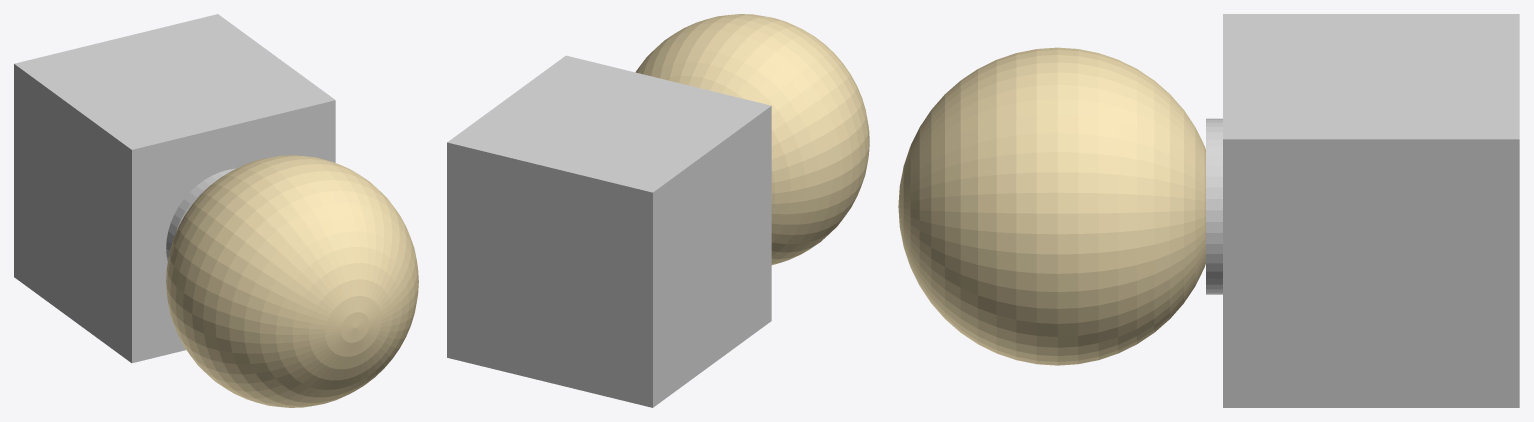
Rendered from tinker.obj.
3 renders of one model, left to right at view 1: azimuth 30°, elevation 25°; view 2: azimuth 150°, elevation 25°; view 3: azimuth 270°, elevation 25°, orthographic. The views are drawn at different scales.
Visible parts, largest first — view 1: obj_2, obj_0, obj_1; view 2: obj_2, obj_0; view 3: obj_2, obj_0, obj_1.
Boxes of the visible parts, x1,y1,x2,y2 form: obj_2: [14, 14, 335, 363]; obj_0: [166, 155, 418, 407]; obj_1: [166, 168, 235, 261]; obj_2: [447, 55, 771, 407]; obj_0: [635, 14, 869, 264]; obj_2: [1223, 14, 1519, 407]; obj_0: [898, 47, 1205, 365]; obj_1: [1206, 118, 1222, 294].
Bounding box in the file's own units: 150 × 150 × 293.
